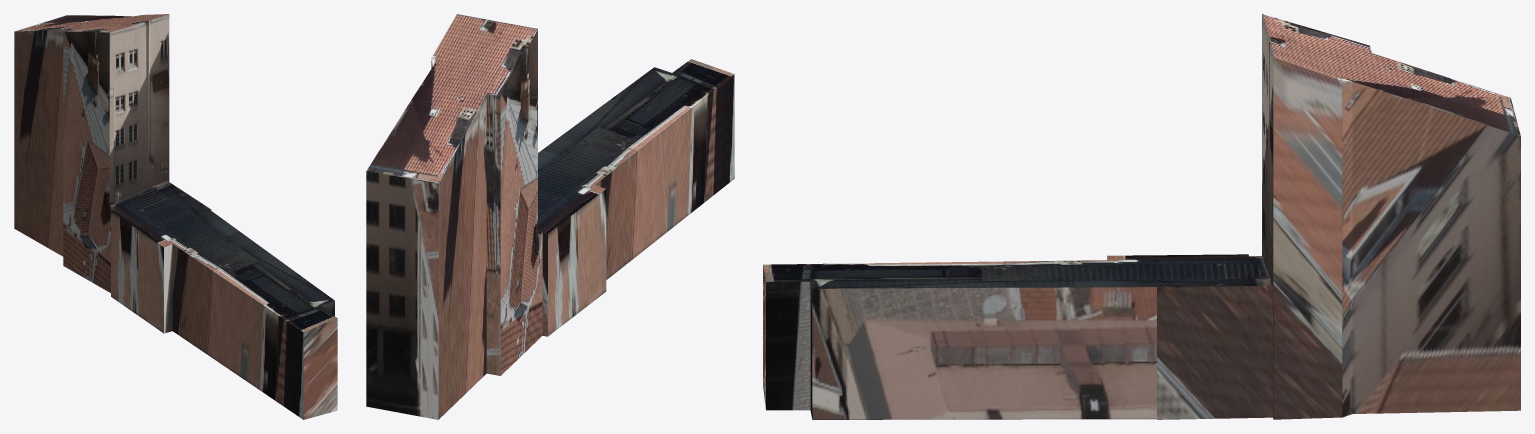
3 renders of one model, left to right at view 1: azimuth 30°, elevation 25°; view 2: azimuth 150°, elevation 25°; view 3: azimuth 270°, elevation 25°, orthographic. The views are drawn at different scales.
Parts seen in each view (by area): view 1: Z_UP; view 2: Z_UP; view 3: Z_UP.
Boxes of the visible parts, x1=… form: Z_UP: x1=14, y1=14, x2=337, y2=419; Z_UP: x1=366, y1=14, x2=734, y2=419; Z_UP: x1=763, y1=14, x2=1520, y2=419.
Bounding box in the file's own units: 7.26 × 25.22 × 47.81.
Materials: 2 (1 with a texture image).
